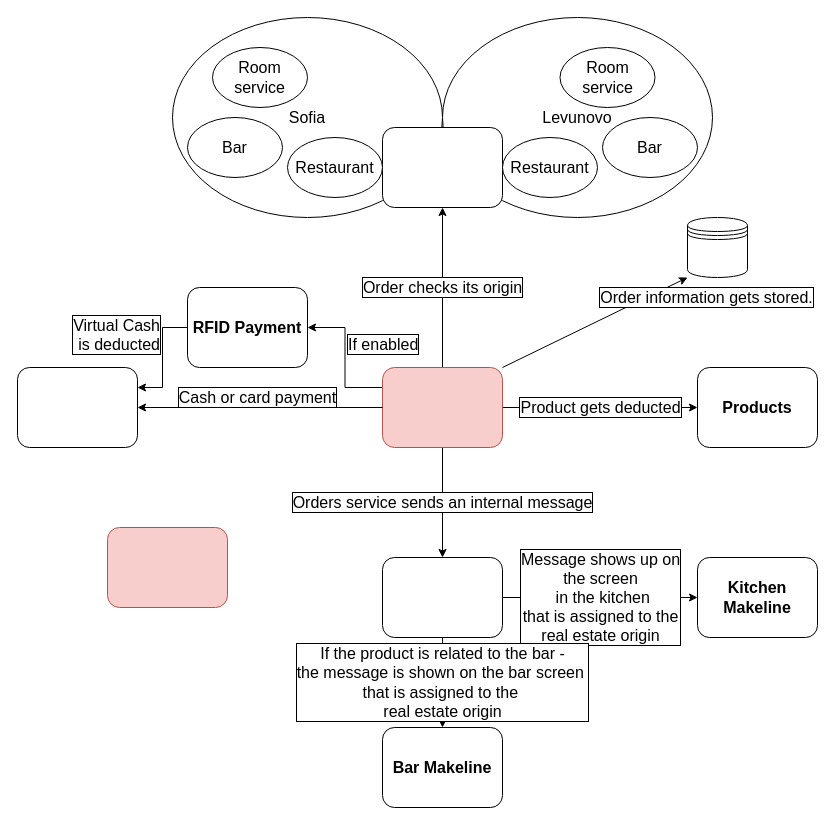
The diagram is 835 pixels wide and 825 high, and some of its shapes have lost their labels. The centre of each missing label's shape, as x and y in pixels:
Client: (77,407)
Internal Message: (442,597)
Mark order as active: (167,567)
Orders: (442,407)
Real estate: (442,167)
